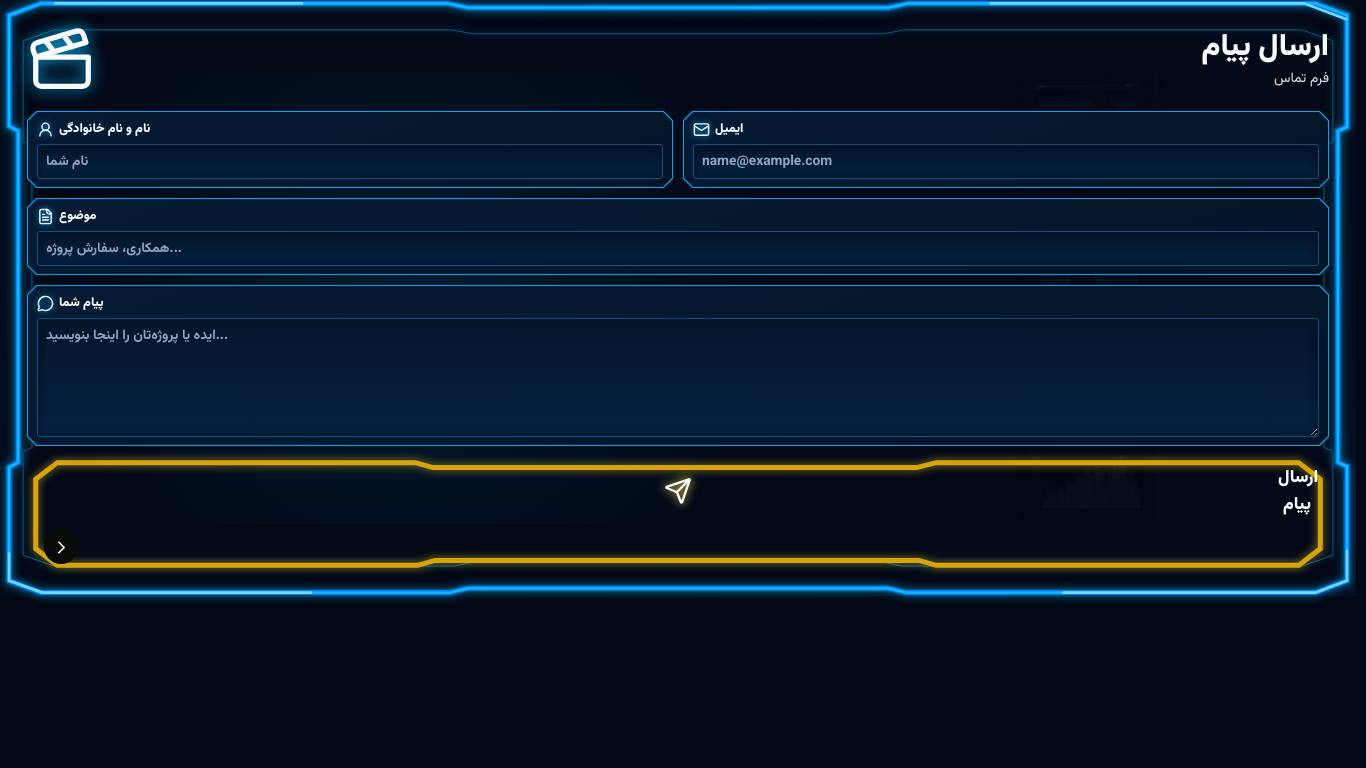
contact message behavior › prevents repeated sending, announces loading, resets only after success
Type "Test Editor" into the field labelled "نام و نام خانوادگی". click: (350,162)
box: [37, 144, 663, 179]
Type "test@example.com" into the field labelled "ایمیل". click: (1006,162)
box: [693, 144, 1319, 179]
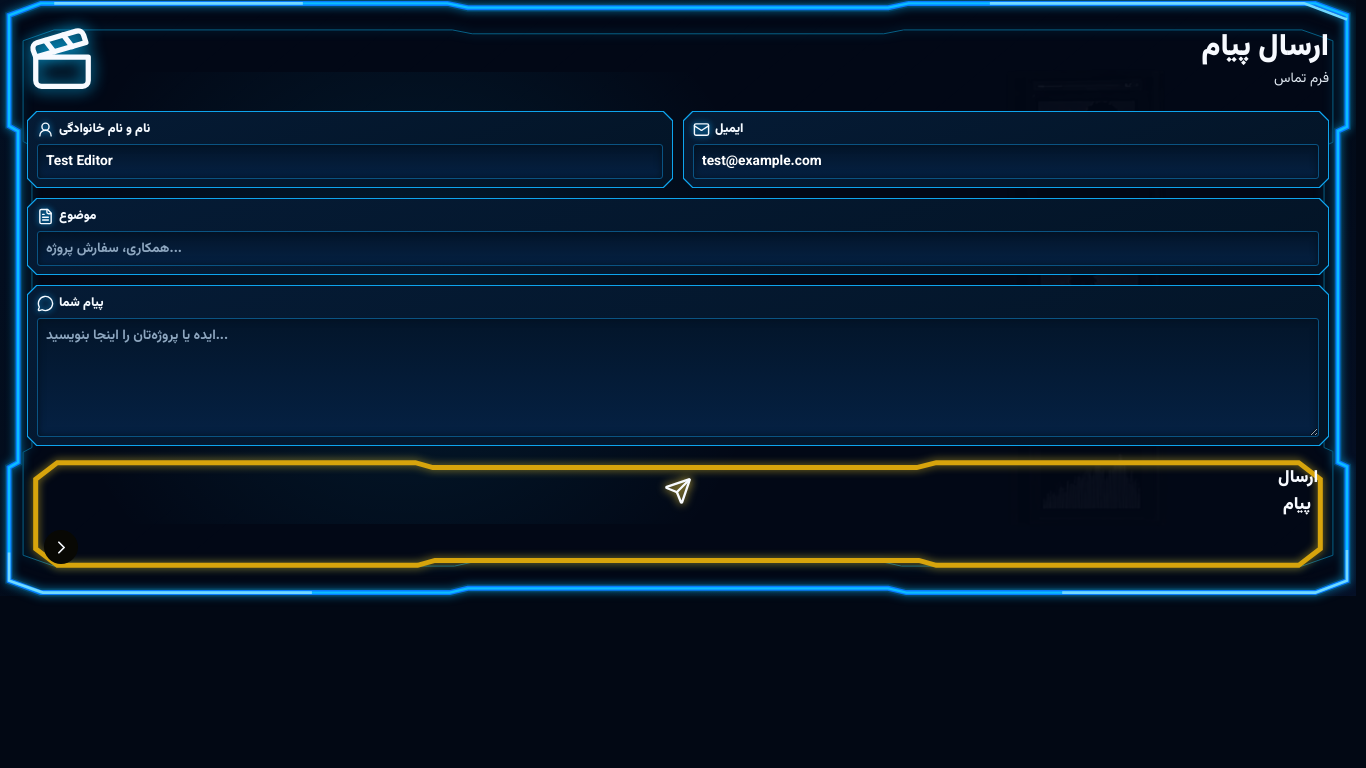
Type "Project request" into the field labelled "موضوع". click: (678,248)
box: [37, 231, 1319, 266]
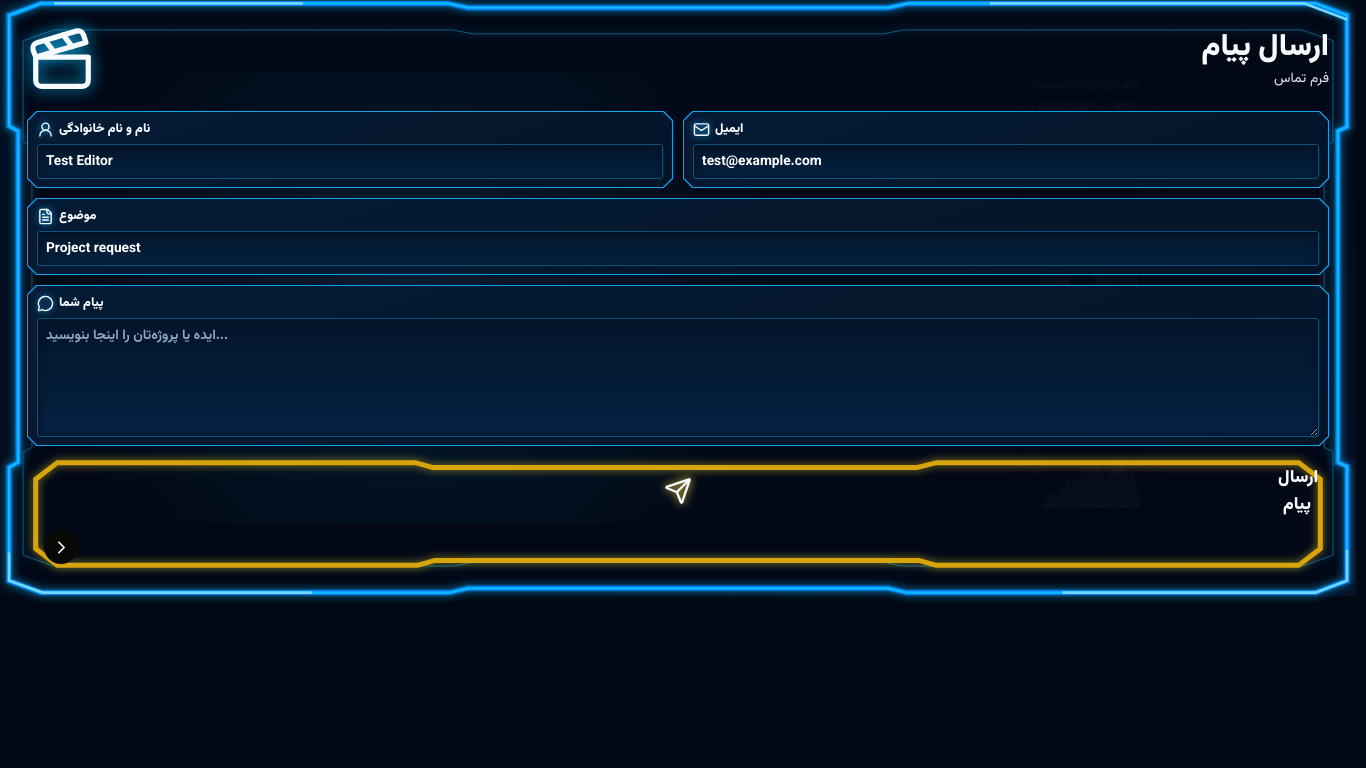
Type "Please edit a sample video project." into the text box labelled "پیام شما". click: (678,378)
box: [37, 318, 1319, 437]
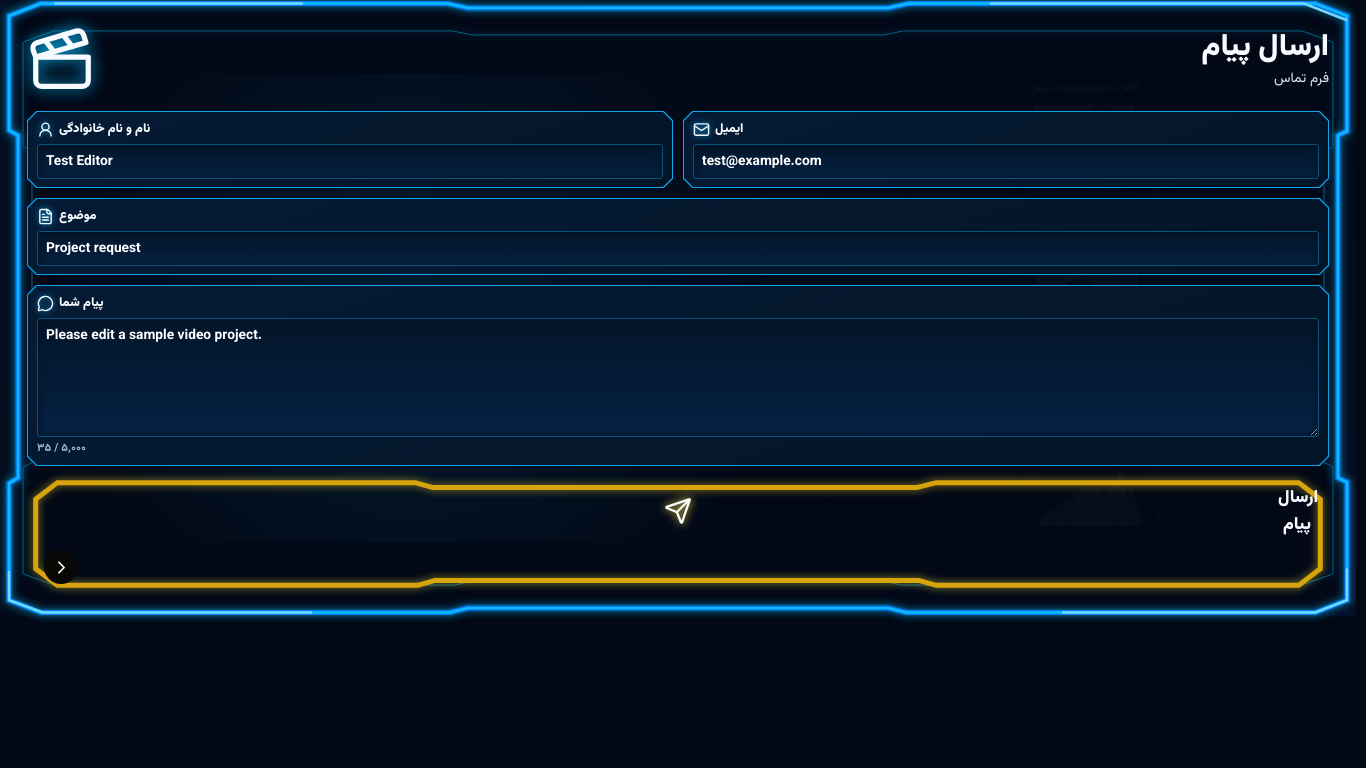
Click the button "ارسال پیام". click: (678,534)
box: [27, 476, 1329, 592]
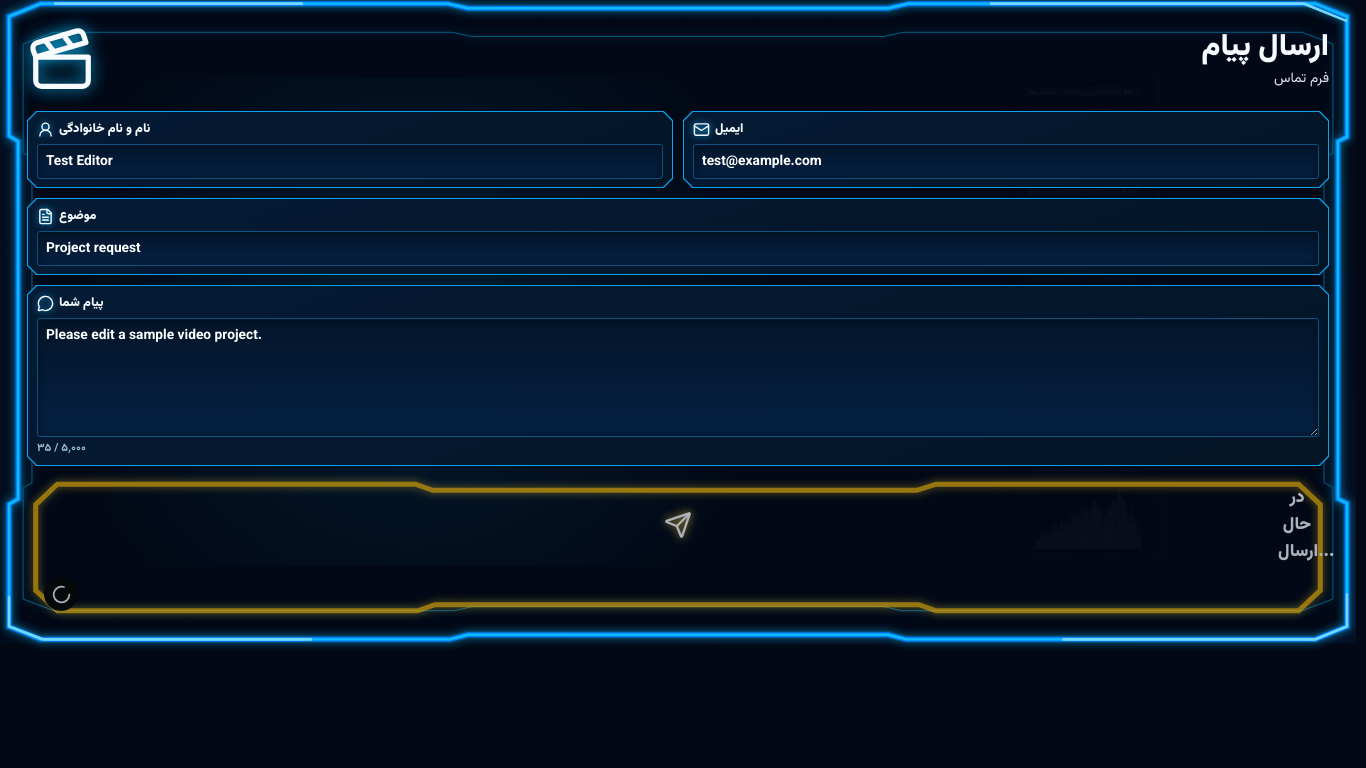
Now the button "در حال ارسال..." is disabled, box [27, 476, 1329, 619]
Submit the form "در حال ارسال..."
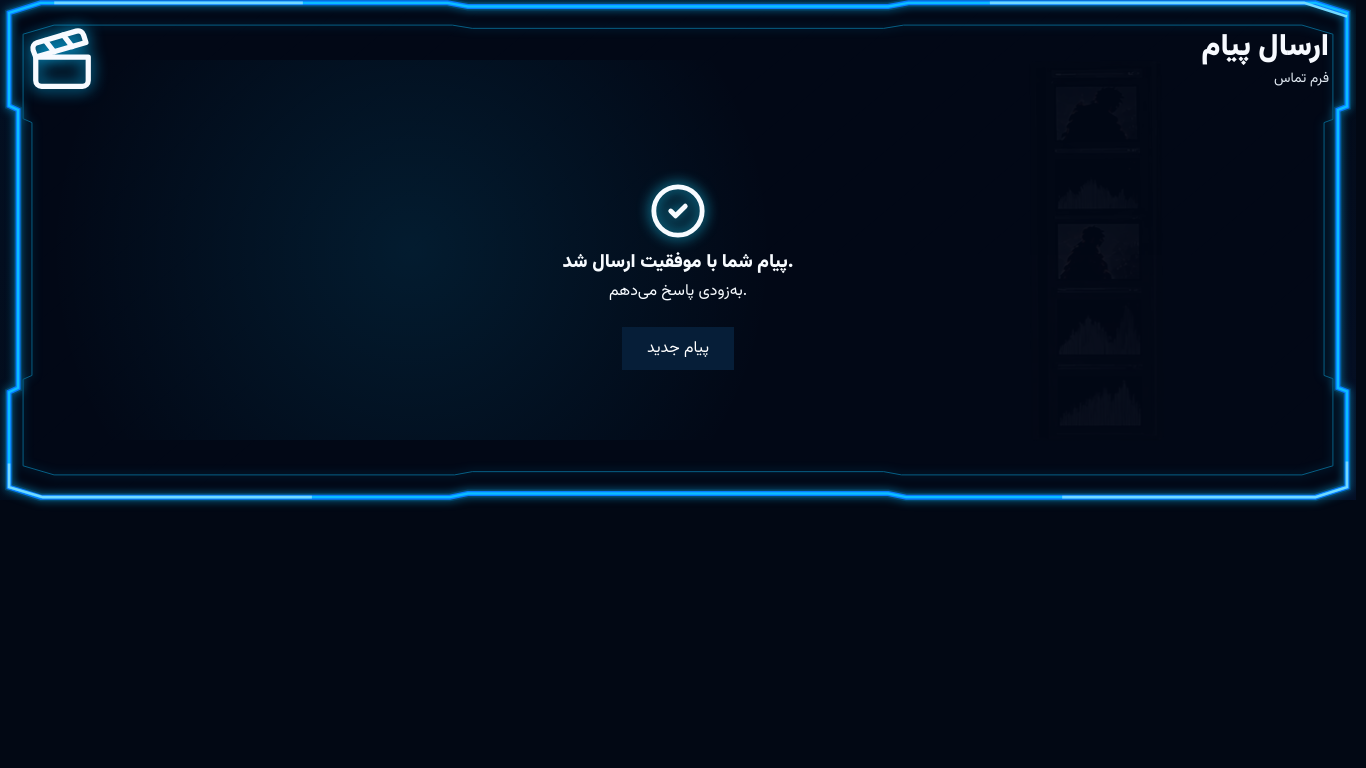
Now the heading "پیام شما با موفقیت ارسال شد." is shown, box [562, 252, 794, 274]
Click the button "پیام جدید". click: (678,349)
box: [622, 327, 734, 370]
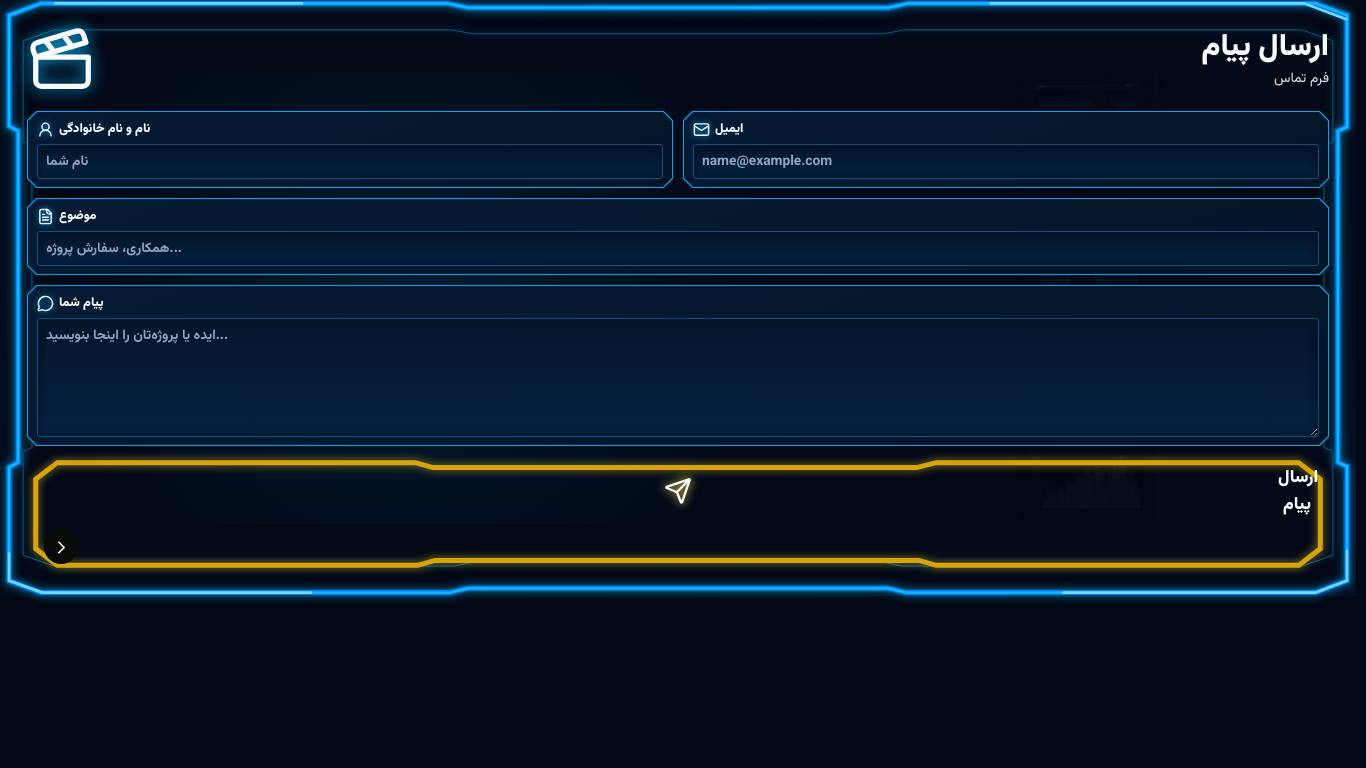
Now the field labelled "نام و نام خانوادگی" is empty, box [37, 144, 663, 179]
